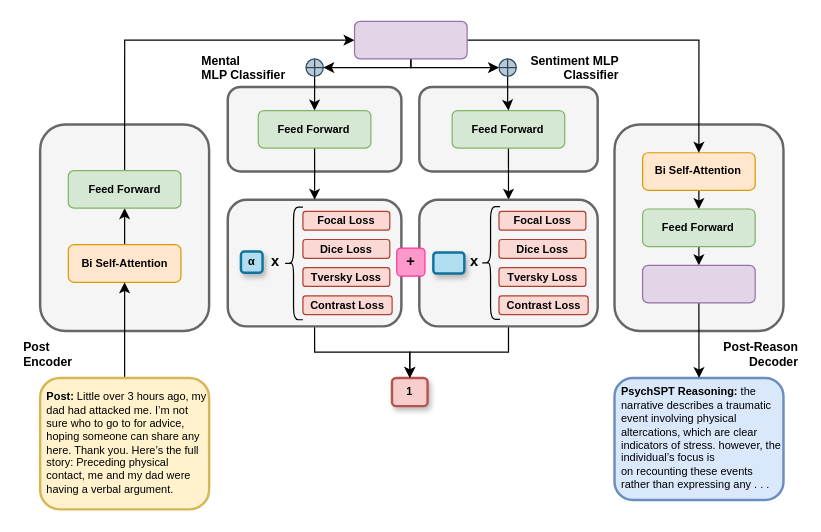
Image size: 821x532. Some labels were removed from this diagram. The centre of each missing label's shape, as x and y in pixels:
"1 - α" belongs at (x=449, y=264).
"CLS Embedding" belongs at (x=410, y=39).
"CLS Predictions" belongs at (x=698, y=283).
